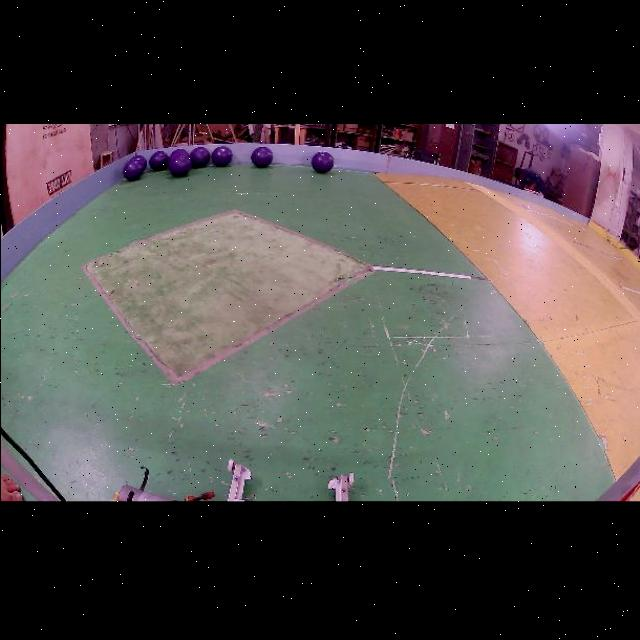P: (167, 148, 190, 177), (310, 151, 333, 173), (210, 145, 231, 166), (122, 160, 143, 181), (249, 147, 272, 166), (189, 147, 209, 166), (148, 151, 168, 170), (130, 154, 146, 169)
